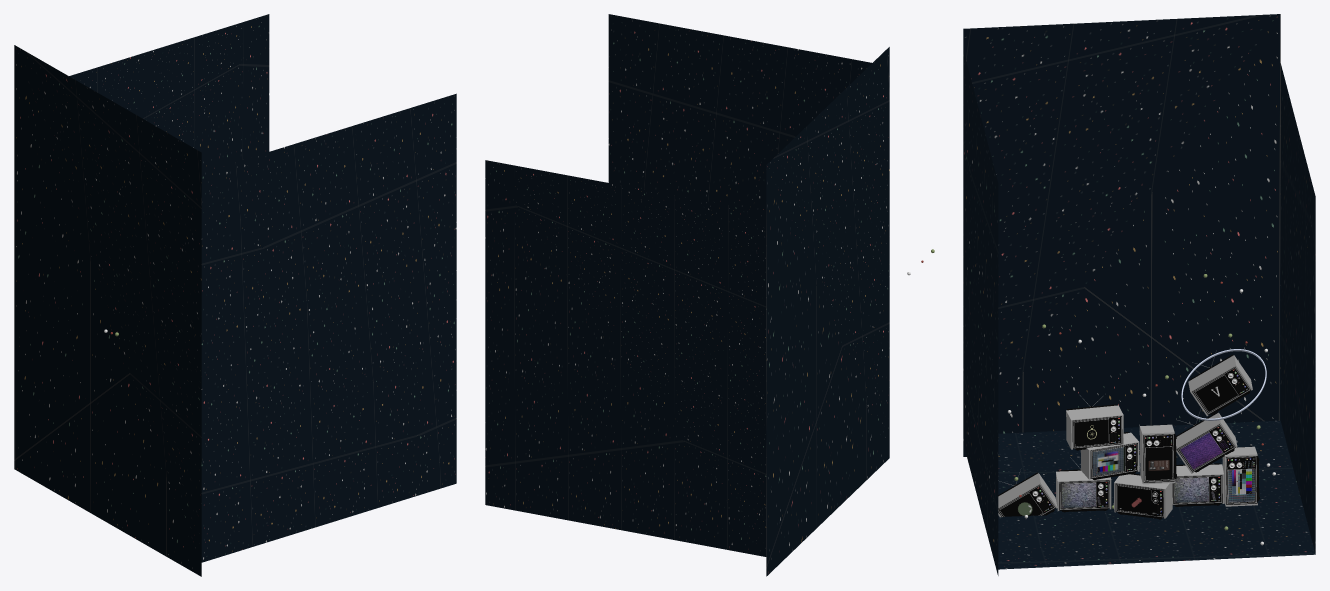
Rendered from salleLobby.glb.
3 renders of one model, left to right at view 1: azimuth 30°, elevation 25°; view 2: azimuth 150°, elevation 25°; view 3: azimuth 270°, elevation 25°, orthographic. The views are drawn at different scales.
Parts seen in each view (by area): view 1: Cube, Cube.002, Cube.001; view 2: Cube.001, Cube.002, Cube; view 3: Cube.002, Cube.004, Cube, Cube.001, boussole, cosmos, Picture.010, journal, bombe, balle, Picture.002, Picture.004 (+13 smaller).
Boxes of the visible parts, <box> form: Cube: <box>201,93,456,562</box>; Cube.002: <box>14,45,201,576</box>; Cube.001: <box>69,14,269,172</box>; Cube.001: <box>485,160,766,556</box>; Cube.002: <box>766,47,889,576</box>; Cube: <box>608,14,871,211</box>; Cube.002: <box>963,14,1280,456</box>; Cube.004: <box>998,420,1315,569</box>; Cube: <box>963,50,998,575</box>; Cube.001: <box>1280,63,1315,553</box>; boussole: <box>1066,394,1123,450</box>; cosmos: <box>1188,350,1252,416</box>; Picture.010: <box>1176,409,1237,473</box>; journal: <box>1127,424,1176,484</box>; bombe: <box>1114,466,1172,519</box>; balle: <box>998,469,1057,517</box>; Picture.002: <box>1056,457,1111,512</box>; Picture.004: <box>1080,432,1139,480</box>.
Bounding box in the file's own units: 2.47 × 2.96 × 2.21.
Materials: 37 (11 with a texture image).
